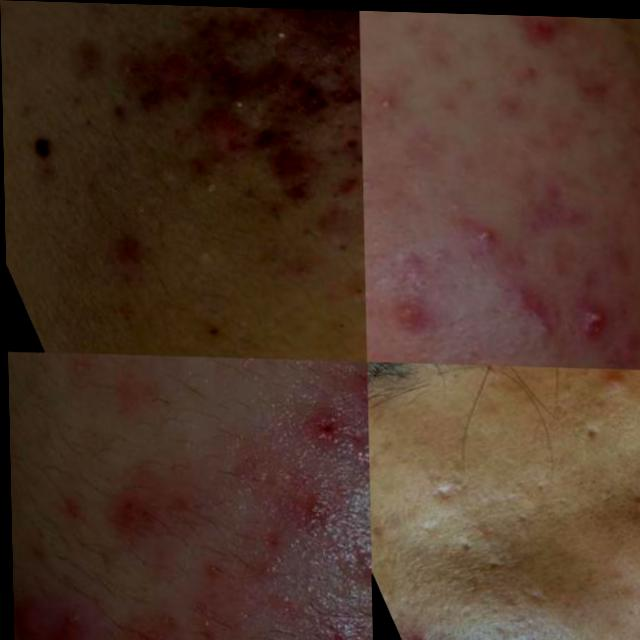8: (10, 558, 114, 640), (371, 261, 444, 339), (485, 253, 548, 313), (500, 12, 566, 49), (590, 365, 640, 398)
9: (562, 260, 633, 345), (446, 194, 516, 256)
blackheads: (172, 35, 316, 157), (200, 5, 361, 111), (559, 390, 618, 452), (419, 456, 468, 510), (606, 449, 640, 510), (443, 522, 490, 559)
dark spot: (145, 33, 206, 90), (339, 252, 364, 301)
